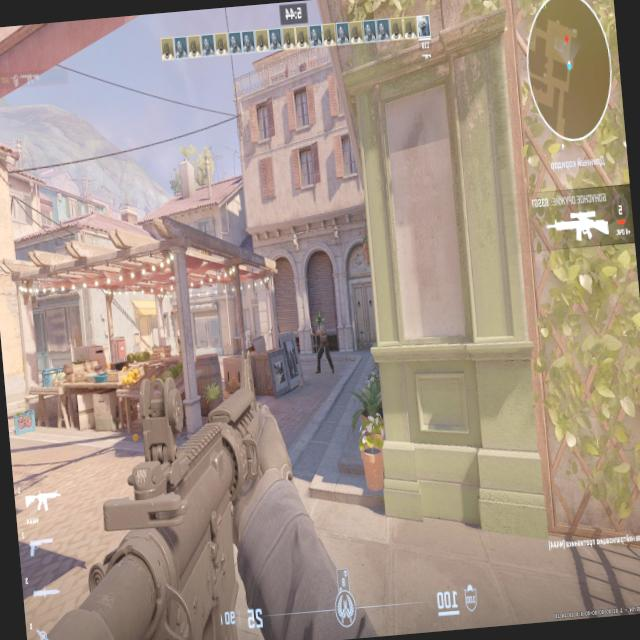T: (314, 316, 330, 364)
T_heat: (317, 316, 323, 336)
